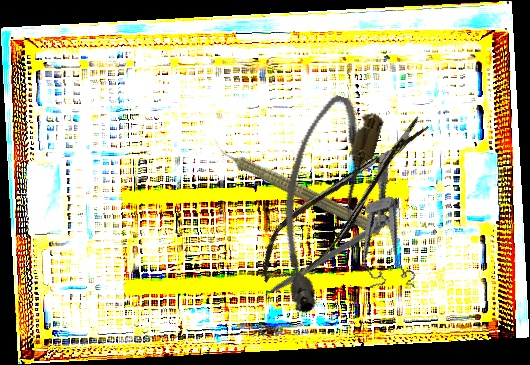Cannula: (252, 88, 388, 320)
Handpiece: (206, 135, 387, 239)
Micro Scissor: (243, 106, 446, 297)
Pusher: (243, 214, 394, 309)
Speculum: (333, 160, 428, 302)
